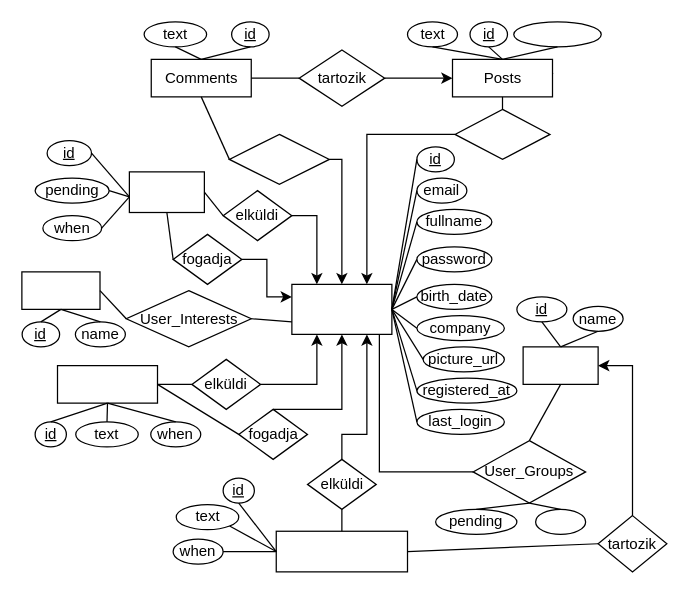
The diagram is 689 pixels wide and 594 high, and some of its shapes have lost their labels. The centre of each missing label's shape, as x and y in pixels:
Friends: the point at 166,191
Group_Messages: the point at 341,551
Groups: the point at 560,365
hozzászól: the point at 278,158
image_url: the point at 556,34
Interests: the point at 60,290
közzétesz: the point at 502,133
Messages: the point at 107,383
role: the point at 560,521
Users: the point at 341,308
